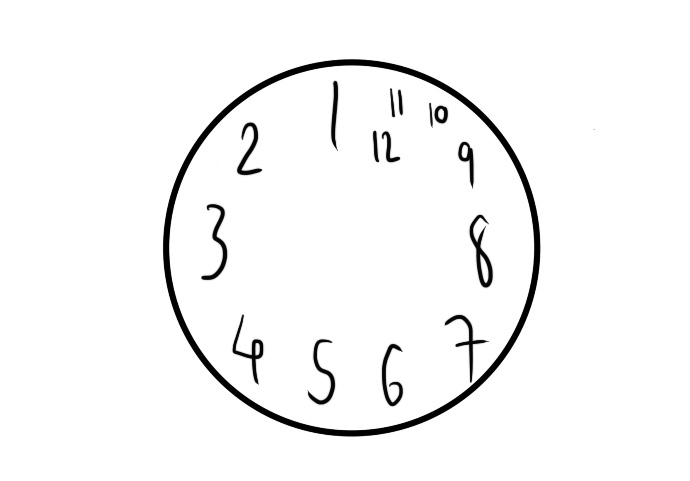eight: (464, 212, 496, 289)
eleven: (386, 82, 408, 120)
five: (306, 336, 337, 407)
four: (230, 310, 269, 385)
nine: (456, 137, 478, 191)
one: (324, 75, 348, 157)
seven: (441, 310, 489, 381)
six: (380, 339, 405, 407)
ten: (425, 96, 452, 128)
three: (198, 199, 231, 284)
twelve: (369, 126, 399, 163)
two: (235, 117, 264, 177)
